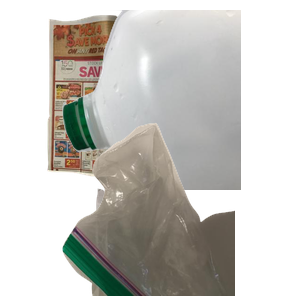glass: (94, 184, 253, 300)
paper: (44, 11, 229, 181)
plastic: (60, 10, 300, 190)
trash: (60, 120, 300, 300)
